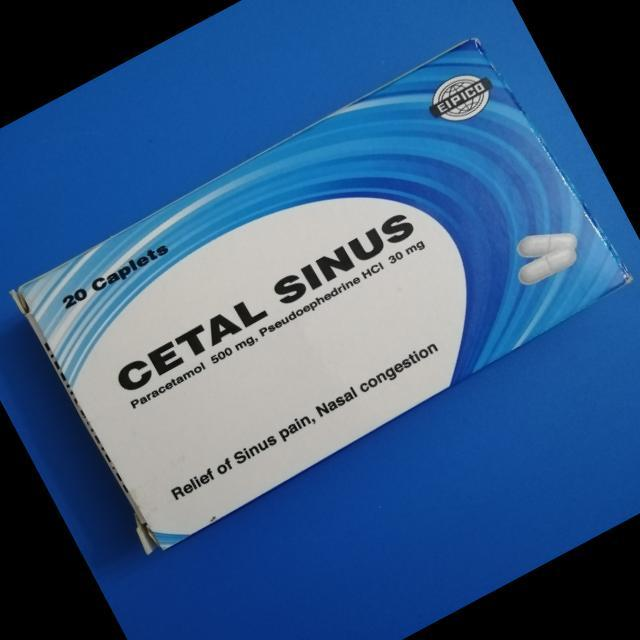Medicine Name: (102, 199, 436, 403)
